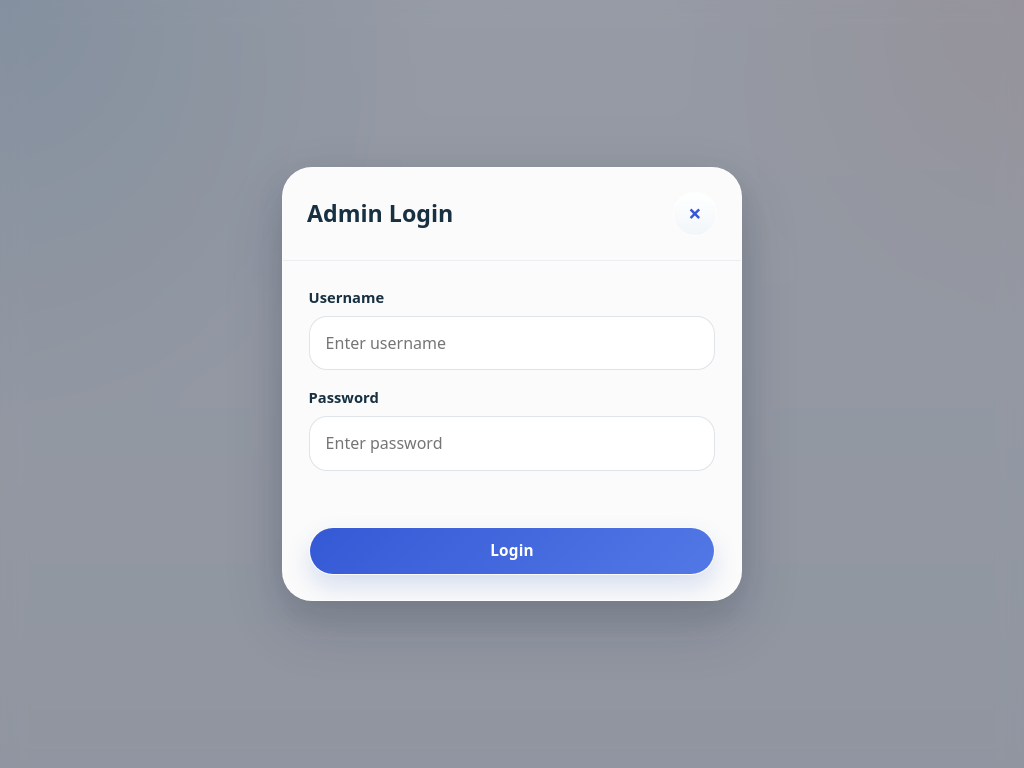
it: LoginModal › shows an error message when login fails
This screenshot has width=1024, height=768.
Type "admin" into the field labelled "Username" at x=512, y=343, box [309,316,715,370]
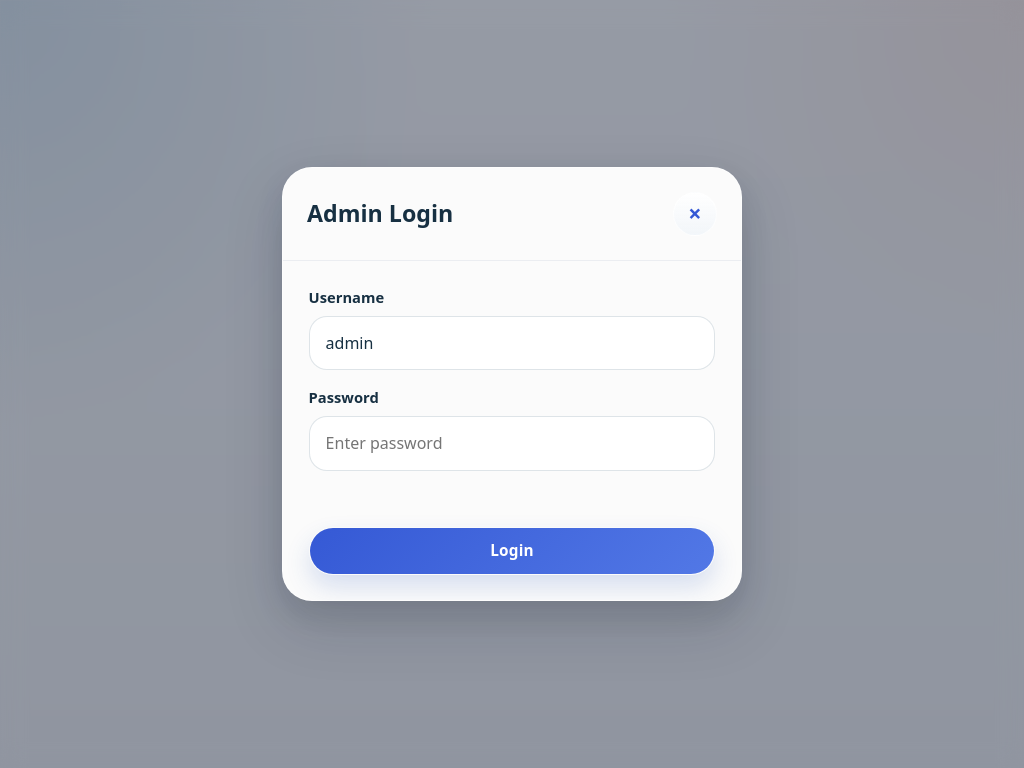
Type "wrong" into the password field labelled "Password" at x=512, y=443, box [309,416,715,470]
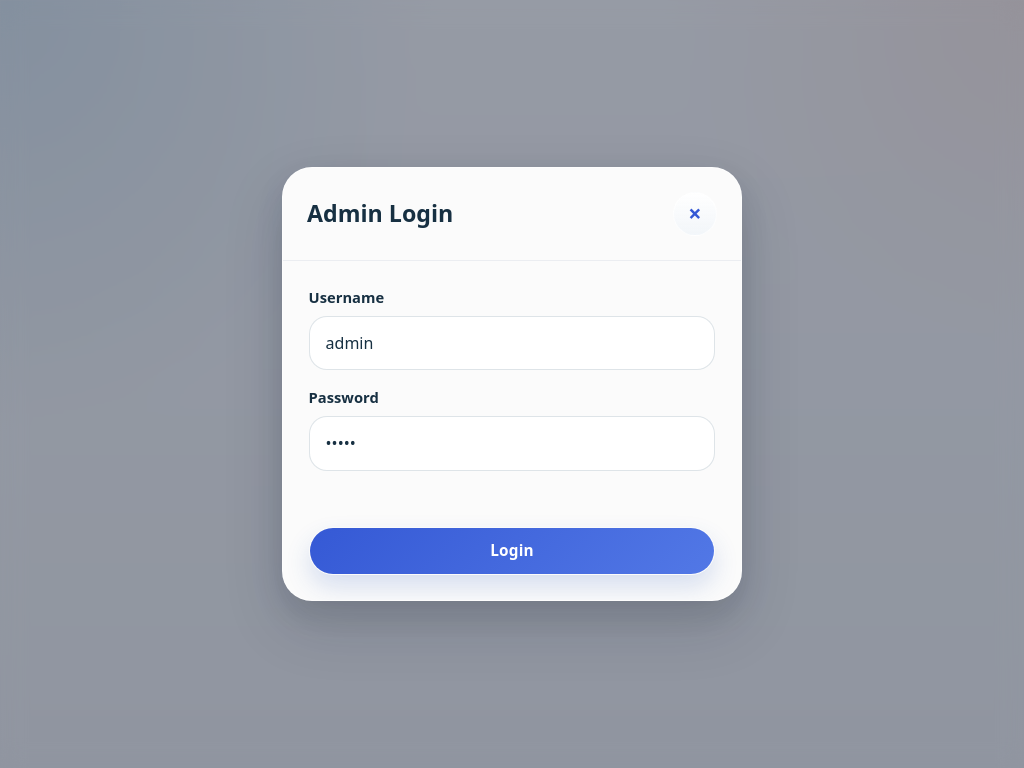
Click the button "Login" at x=512, y=551, box [309,526,715,575]
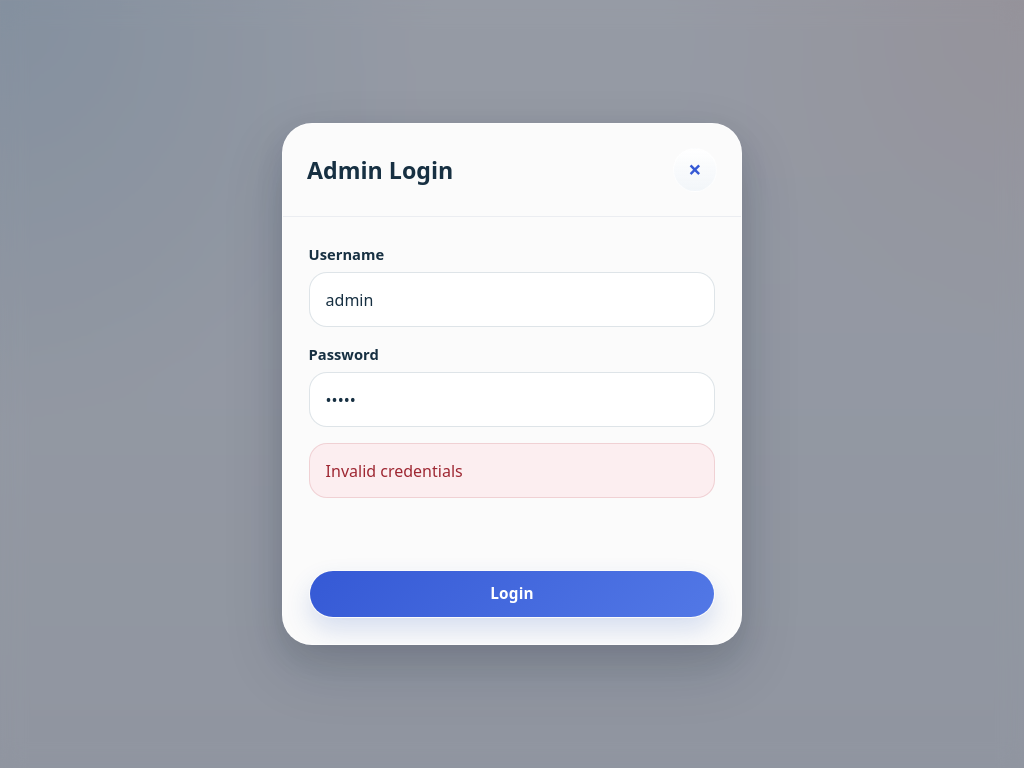
Expected: the text "Invalid credentials" is shown, [309,443,715,498]
